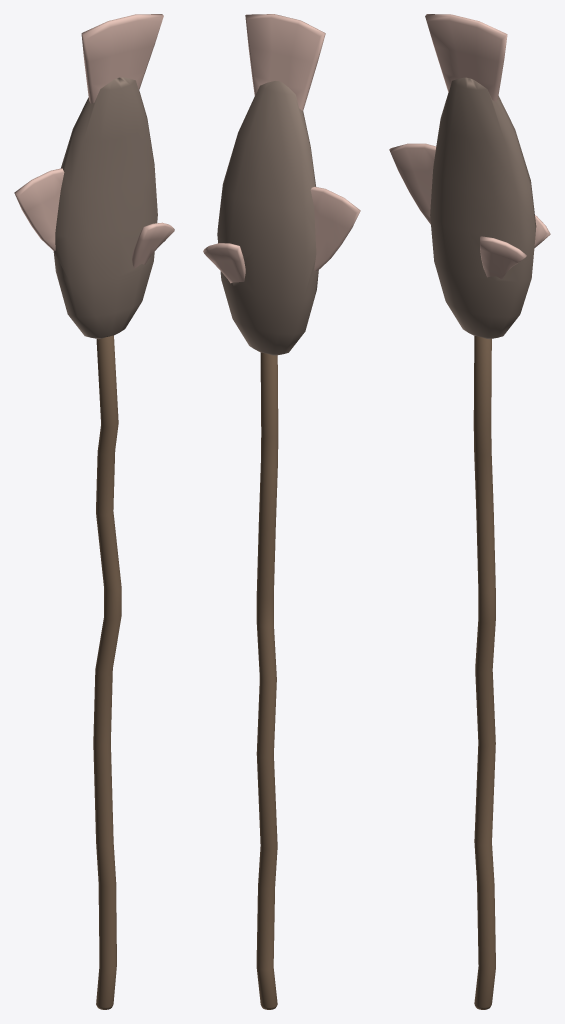
Rendered from fish-skewered.fbx.
The picture shows the model from 3 angles, left to right: view 1: azimuth 30°, elevation 25°; view 2: azimuth 150°, elevation 25°; view 3: azimuth 330°, elevation 25°; orthographic projection. The views are drawn at different scales.
Visible parts, largest first — view 1: Fish, Stick; view 2: Fish, Stick; view 3: Fish, Stick.
Part boxes in pixels (left/top/right/bottom): Fish: left=14, top=14, right=174, bottom=339; Stick: left=93, top=335, right=121, bottom=1009; Fish: left=203, top=14, right=360, bottom=355; Stick: left=256, top=352, right=278, bottom=1009; Fish: left=389, top=14, right=550, bottom=339; Stick: left=473, top=336, right=495, bottom=1009.
Size of the model in its own units: 19.29 by 125 by 9.83.
